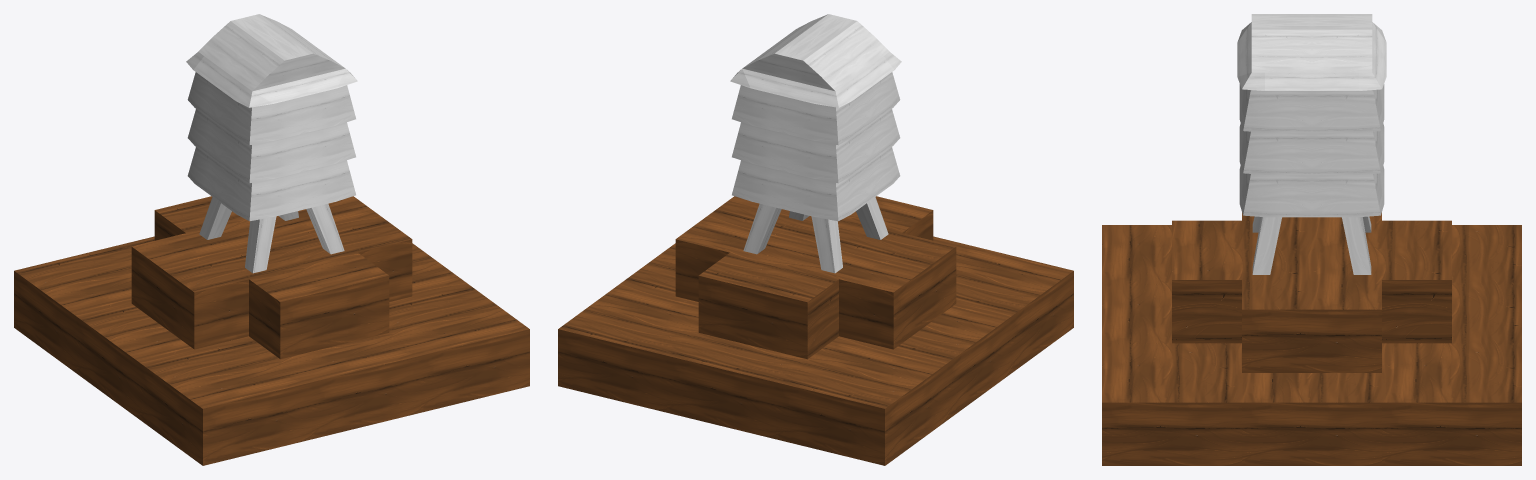
The model's file is Apiary.FBX.
The picture shows the model from 3 angles, left to right: view 1: azimuth 30°, elevation 25°; view 2: azimuth 150°, elevation 25°; view 3: azimuth 270°, elevation 25°; orthographic projection. The views are drawn at different scales.
Parts seen in each view (by area): view 1: ApiaryStand, Apiary; view 2: ApiaryStand, Apiary; view 3: ApiaryStand, Apiary.
Part boxes in pixels (<box>): ApiaryStand: <box>14,196,529,465</box>; Apiary: <box>186,14,357,273</box>; ApiaryStand: <box>558,196,1073,465</box>; Apiary: <box>730,14,901,273</box>; ApiaryStand: <box>1102,212,1521,465</box>; Apiary: <box>1237,14,1386,274</box>.
Size of the model in its own units: 30 by 28.02 by 30.
